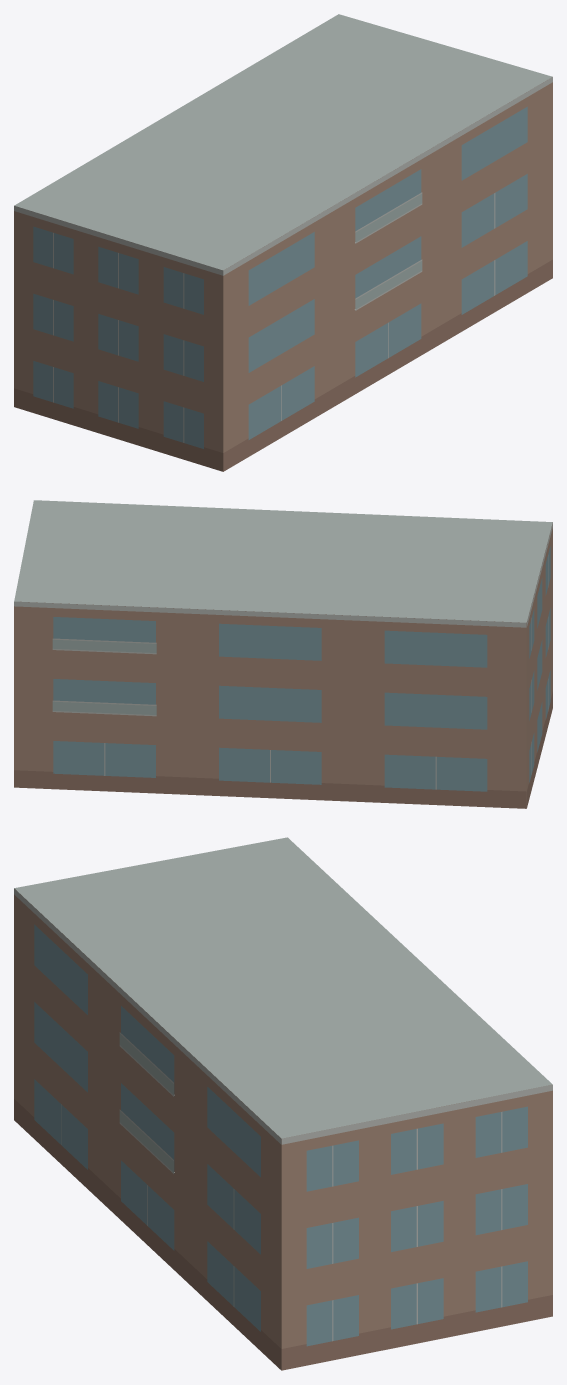
The model's file is survey-upis-32845536.glb.
The picture shows the model from 3 angles, top to bottom: view 1: azimuth 30°, elevation 25°; view 2: azimuth 150°, elevation 25°; view 3: azimuth 270°, elevation 25°; orthographic projection. The views are drawn at different scales.
Parts seen in each view (by area): view 1: survey-upis-32845536.tmp; view 2: survey-upis-32845536.tmp; view 3: survey-upis-32845536.tmp.
Boxes of the visible parts, box(x1,y1,x2,y2) form: survey-upis-32845536.tmp: box(14, 14, 552, 471); survey-upis-32845536.tmp: box(14, 500, 552, 808); survey-upis-32845536.tmp: box(14, 837, 552, 1370).
Size of the model in its own units: 25.5 by 9.15 by 19.27.
